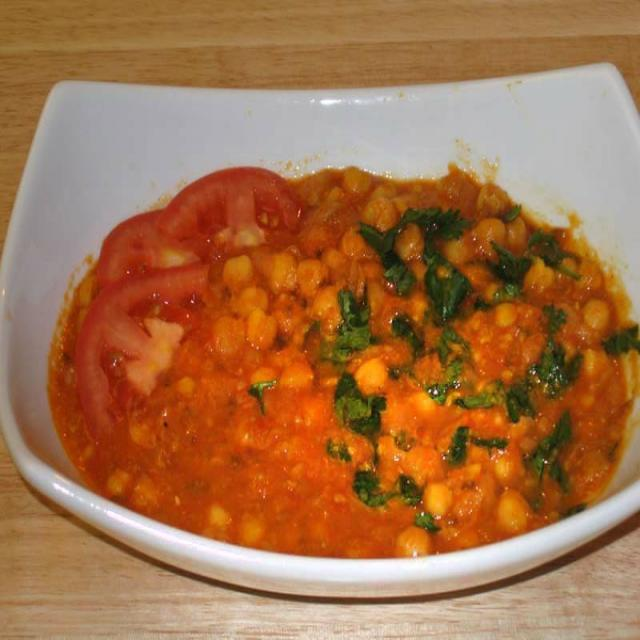Chole: (51, 164, 640, 557)
